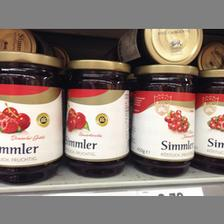Marmelade: (64, 58, 132, 178), (0, 50, 60, 184), (132, 64, 196, 176), (114, 28, 202, 64), (196, 68, 224, 174)
